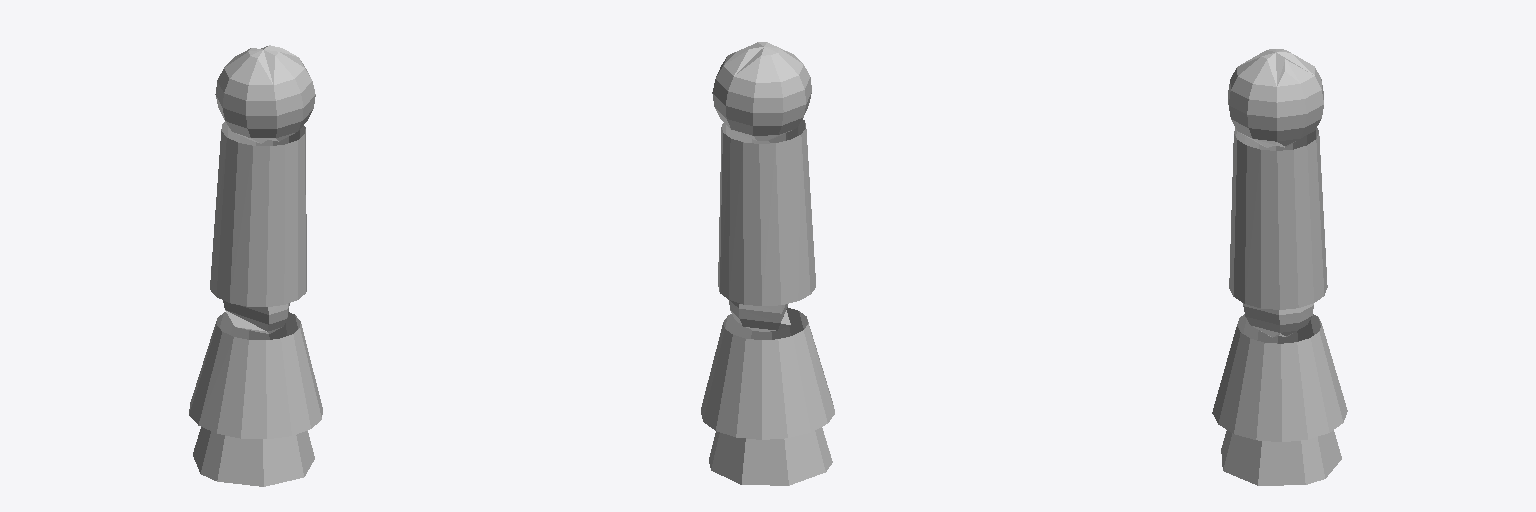
The model's file is low_left_arm.obj.
3 renders of one model, left to right at view 1: azimuth 30°, elevation 25°; view 2: azimuth 150°, elevation 25°; view 3: azimuth 270°, elevation 25°, orthographic.
Parts seen in each view (by area): view 1: polySurface38; view 2: polySurface38; view 3: polySurface38.
Boxes of the visible parts, x1=… form: polySurface38: x1=189, y1=45, x2=322, y2=486; polySurface38: x1=701, y1=42, x2=834, y2=485; polySurface38: x1=1212, y1=49, x2=1347, y2=485.
Bounding box in the file's own units: 2.05 × 6.88 × 2.05.